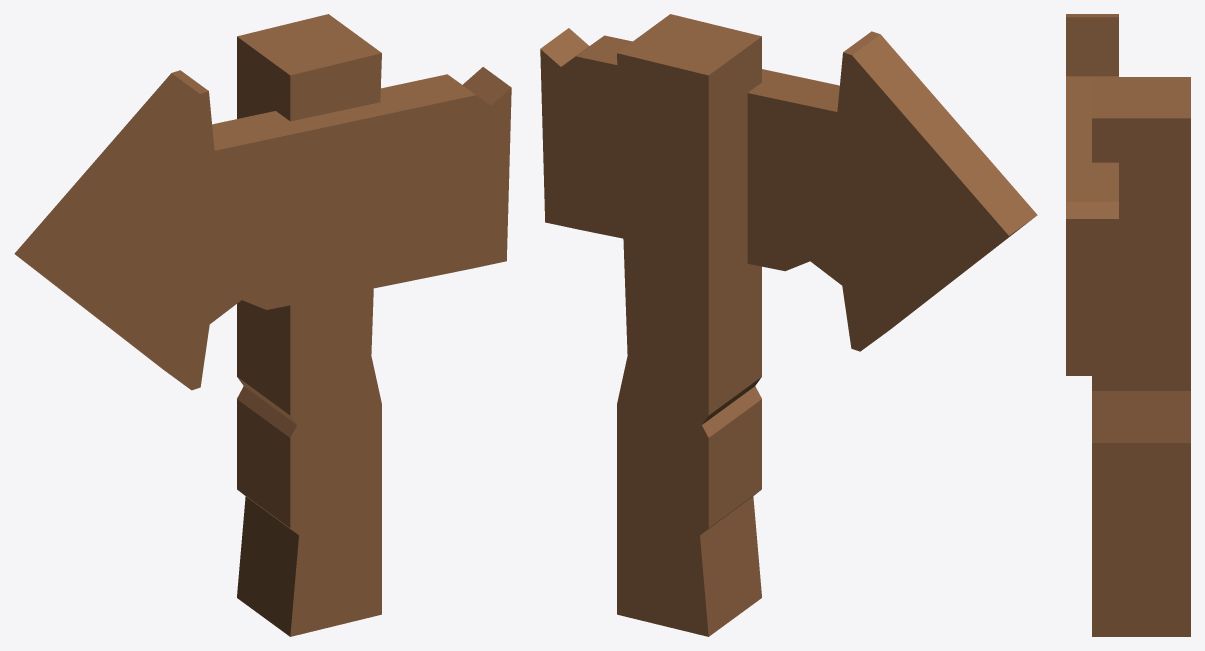
The model's file is sign_left.glb.
The picture shows the model from 3 angles, left to right: view 1: azimuth 30°, elevation 25°; view 2: azimuth 150°, elevation 25°; view 3: azimuth 270°, elevation 25°; orthographic projection. The views are drawn at different scales.
Visible parts, largest first — view 1: Sign_Left; view 2: Sign_Left; view 3: Sign_Left.
Part boxes in pixels (left/top/right/bottom): Sign_Left: left=14, top=14, right=511, bottom=636; Sign_Left: left=540, top=14, right=1037, bottom=636; Sign_Left: left=1066, top=14, right=1190, bottom=636.
Bounding box in the file's own units: 1.1 × 1.3 × 0.2746.
